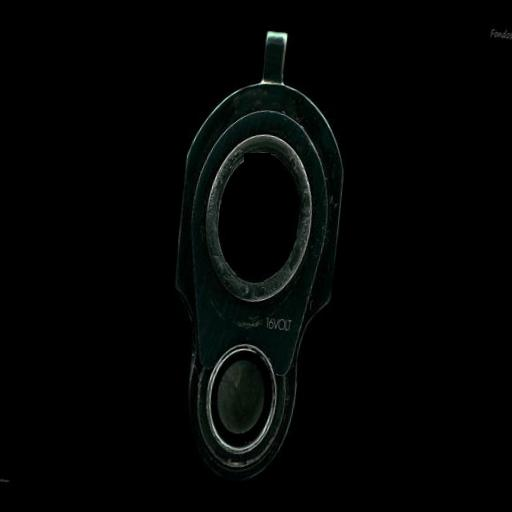Handgun: (146, 12, 358, 492)
